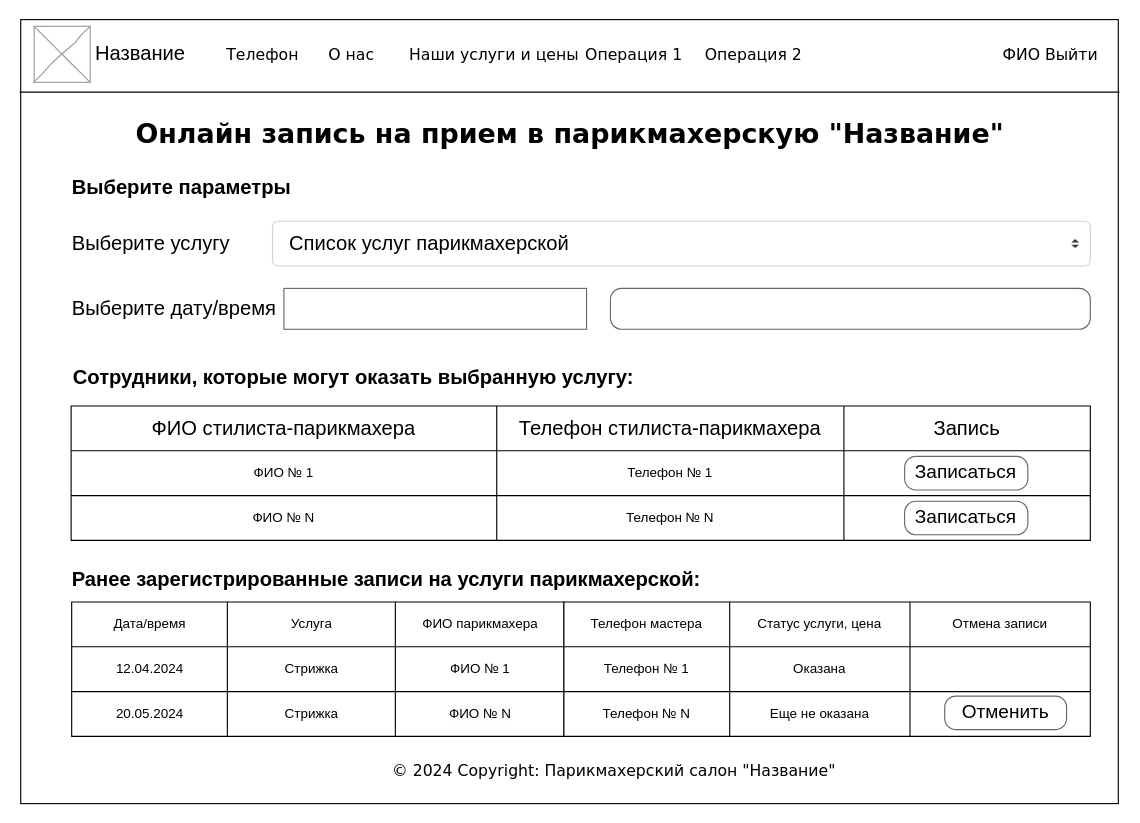
This 1140x823 diagram has some shape labels left out. Here are the shapes that lost their labels. From the top down, the centre of each, then its label:
At pixel 435 308: "Выбор даты и времени".
At pixel 849 308: "Показать расписание стилистов-парикмахеров".
